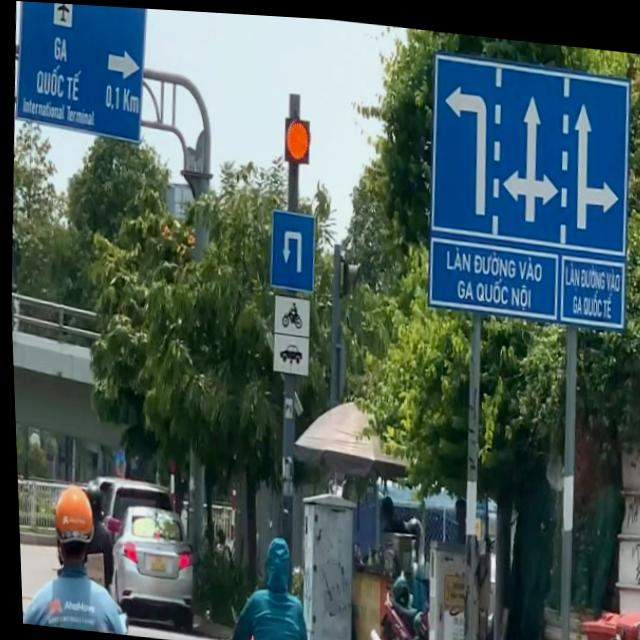Cho quay xe: (266, 207, 317, 289)
